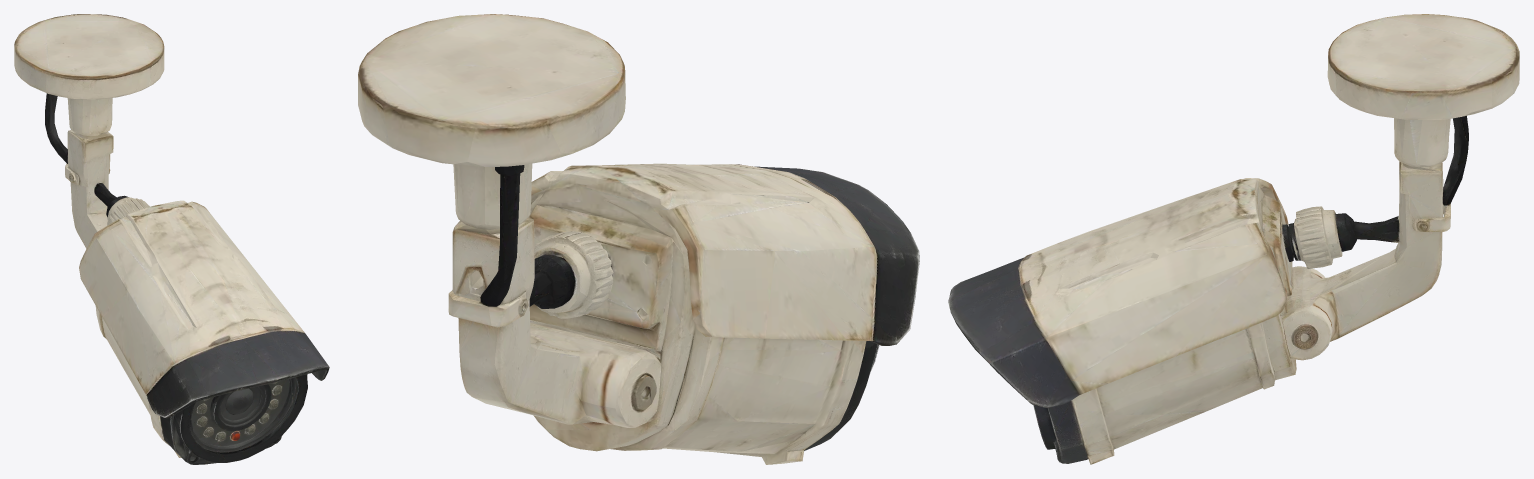
Rendered from cctv.glb.
3 renders of one model, left to right at view 1: azimuth 30°, elevation 25°; view 2: azimuth 150°, elevation 25°; view 3: azimuth 270°, elevation 25°, orthographic. The views are drawn at different scales.
Visible parts, largest first — view 1: Mesh_0; view 2: Mesh_0; view 3: Mesh_0.
Boxes of the visible parts, box(x1,y1,x2,y2) form: Mesh_0: box(14, 14, 329, 464); Mesh_0: box(358, 14, 919, 464); Mesh_0: box(948, 14, 1519, 464).
Bounding box in the file's own units: 0.7827 × 1.44 × 1.9.
1 material, 1 textured.
